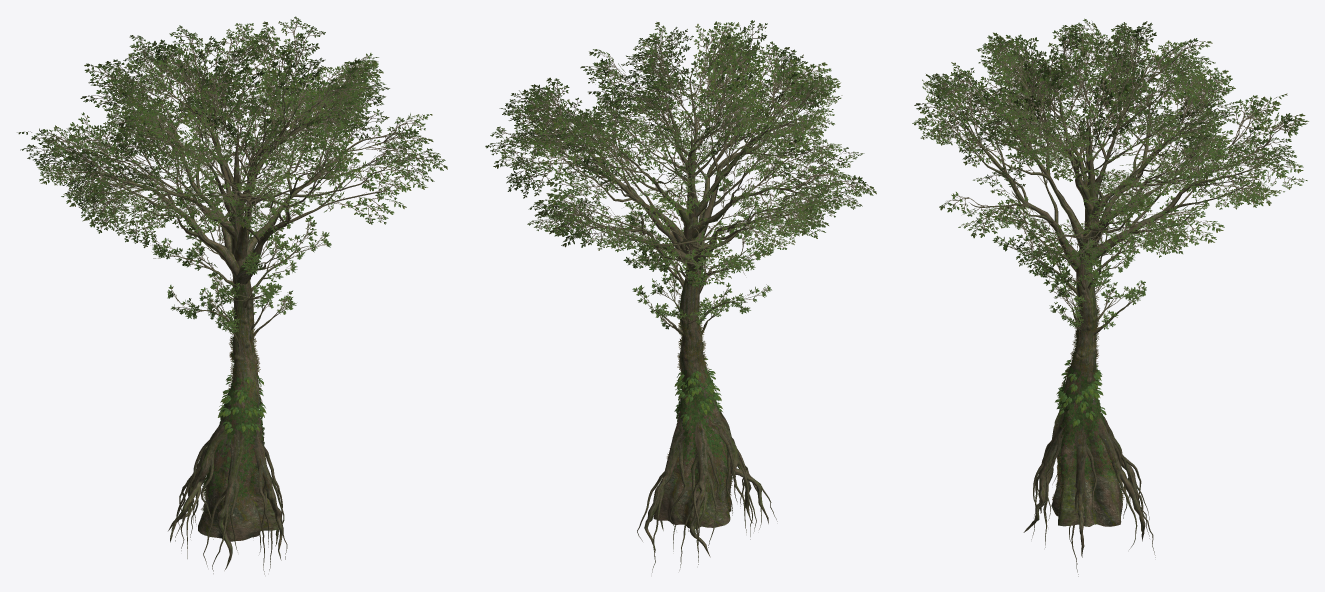
File: Tree - Alien Tree 04 1-4RAnSKU4.glb
The picture shows the model from 3 angles, left to right: view 1: azimuth 30°, elevation 25°; view 2: azimuth 150°, elevation 25°; view 3: azimuth 270°, elevation 25°; orthographic projection. The views are drawn at different scales.
Visible parts, largest first — view 1: Tree_04_1_L0(Clone), Tree_04_1_plants(Clone); view 2: Tree_04_1_L0(Clone), Tree_04_1_plants(Clone); view 3: Tree_04_1_L0(Clone), Tree_04_1_plants(Clone).
Boxes of the visible parts, x1,y1,x2,y2 form: Tree_04_1_L0(Clone): (17, 16, 447, 574); Tree_04_1_plants(Clone): (201, 300, 269, 528); Tree_04_1_L0(Clone): (485, 20, 876, 572); Tree_04_1_plants(Clone): (654, 293, 732, 513); Tree_04_1_L0(Clone): (912, 18, 1308, 576); Tree_04_1_plants(Clone): (1052, 295, 1124, 509).
Size of the model in its own units: 15.35 by 21.1 by 14.56.
Materials: 3 (3 with a texture image).
